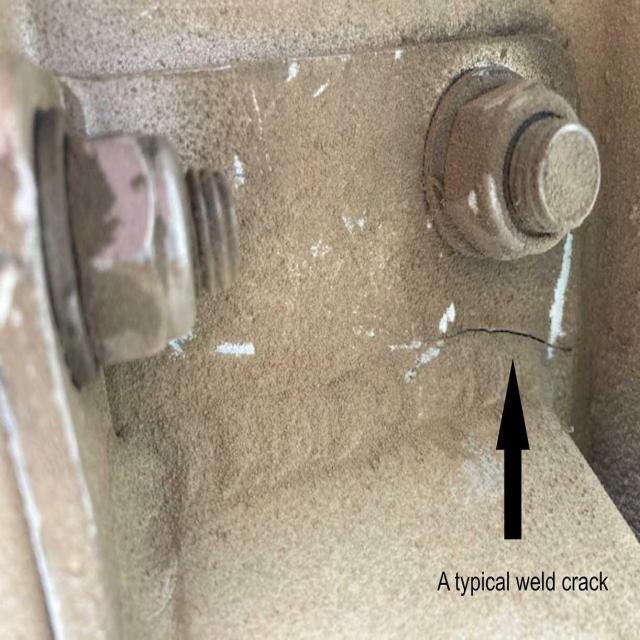defect: (402, 323, 577, 357)
